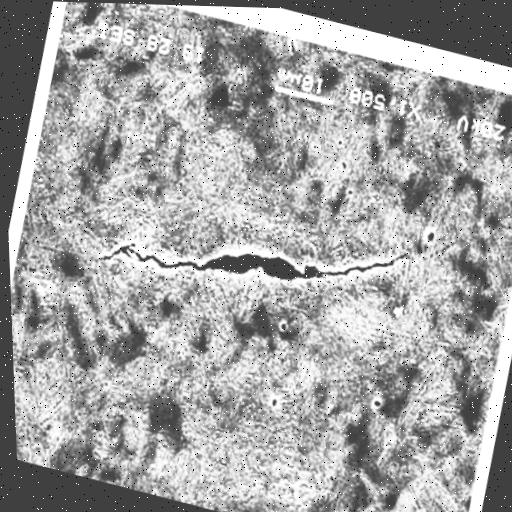crack: (86, 175, 408, 330)
